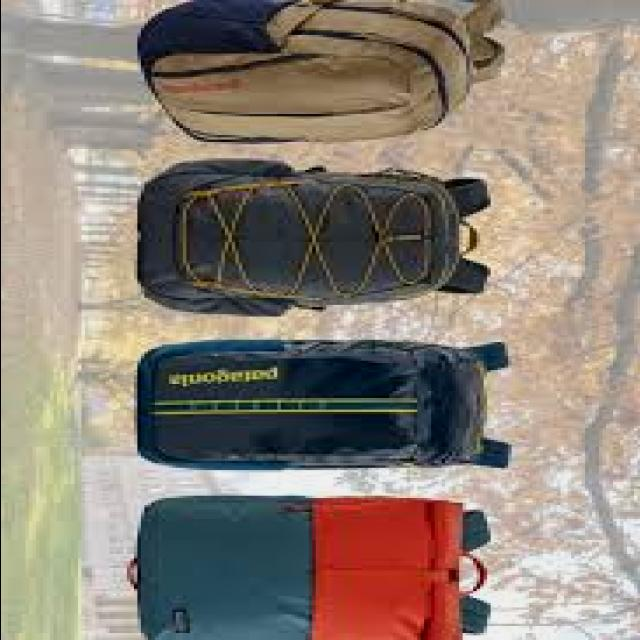backpack: (138, 160, 494, 318), (138, 1, 508, 143), (137, 339, 515, 471)
